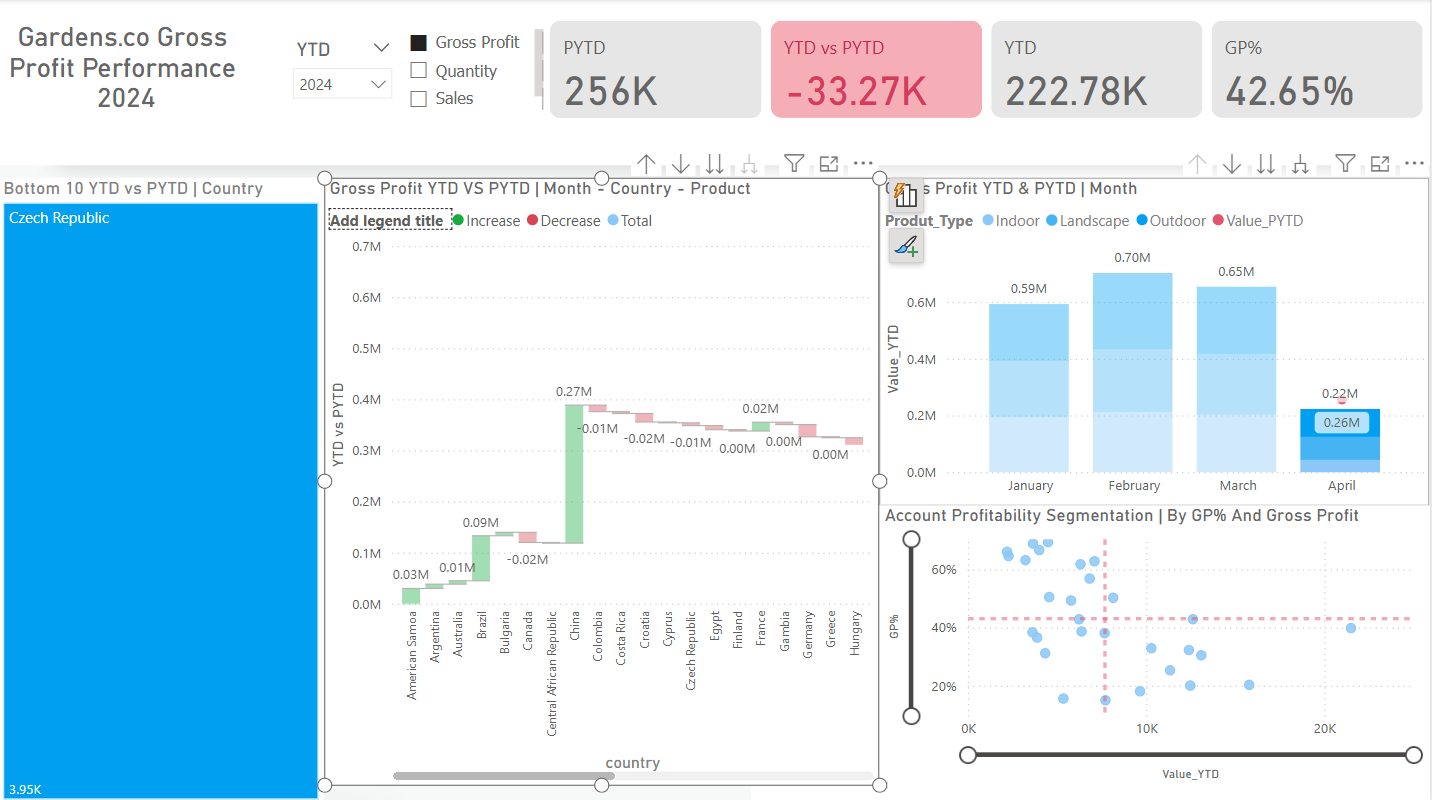

Layout of this report page (visuals, bound fields, positions):
{"tool":"powerbi","page":{"name":"Performance_report","canvas":[1280,720],"ordinal":0},"visuals":[{"type":"cardVisual","fields":{"Data":["formulas.sl_PYTD","formulas.YTD vs PYTD","formulas.sl_YTD","formulas.GP%"]},"box":[488,14.5,792.8,97.1],"z":0},{"type":"slicer","fields":{"Values":["slicer_values.Values"]},"box":[358.4,24.6,129.5,78.2],"z":1000},{"type":"slicer","fields":{"Values":["date_data.Date.Variation.Date Hierarchy.Year"]},"box":[254.6,31.3,103.8,64.8],"z":2000},{"type":"treemap","title":"Bottom 10 YTD vs PYTD | Country","fields":{"Values":["formulas.YTD vs PYTD"],"Group":["Accounts_data.country"]},"box":[0,159.7,291.4,560.5],"z":3000},{"type":"waterfallChart","fields":{"Y":["formulas.YTD vs PYTD"],"Category":["date_data.Date.Variation.Date Hierarchy.Month","Accounts_data.country","product_data.Produt_Type","product_data.Product_Name"]},"box":[291.8,159.4,495.3,543.1],"z":4000},{"type":"lineStackedColumnComboChart","fields":{"Y":["formulas.sl_YTD"],"Y2":["formulas.sl_PYTD"],"Category":["date_data.Date.Variation.Date Hierarchy.Month","date_data.Date.Variation.Date Hierarchy.Quarter"],"Series":["product_data.Produt_Type"]},"box":[787.1,159.4,492.9,293],"z":5000},{"type":"scatterChart","fields":{"Y":["formulas.GP%"],"X":["formulas.sl_YTD"],"Category":["Accounts_data.Account"]},"box":[787.4,452.3,492.3,250.6],"z":5001},{"type":"card","fields":{"Values":["formulas.Report_title"]},"box":[0,7.8,228.9,103.8],"z":5002}]}

Visuals, with their boxes in screenshot pixels (x1, y1, x2, y2), scaled from the page's 1280x720 canvas onto the 1432x800 screenshot:
cardVisual - formulas.sl_PYTD x formulas.YTD vs PYTD: 546:16:1431:124
slicer - slicer_values.Values: 401:27:546:114
slicer - date_data.Date.Variation.Date Hierarchy.Year: 285:35:401:107
"Bottom 10 YTD vs PYTD | Country" treemap: 0:177:326:799
waterfallChart - formulas.YTD vs PYTD x date_data.Date.Variation.Date Hierarchy.Month: 326:177:881:781
lineStackedColumnComboChart - formulas.sl_YTD x formulas.sl_PYTD: 881:177:1431:503
scatterChart - formulas.GP% x formulas.sl_YTD: 881:503:1431:781
card - formulas.Report_title: 0:9:256:124
